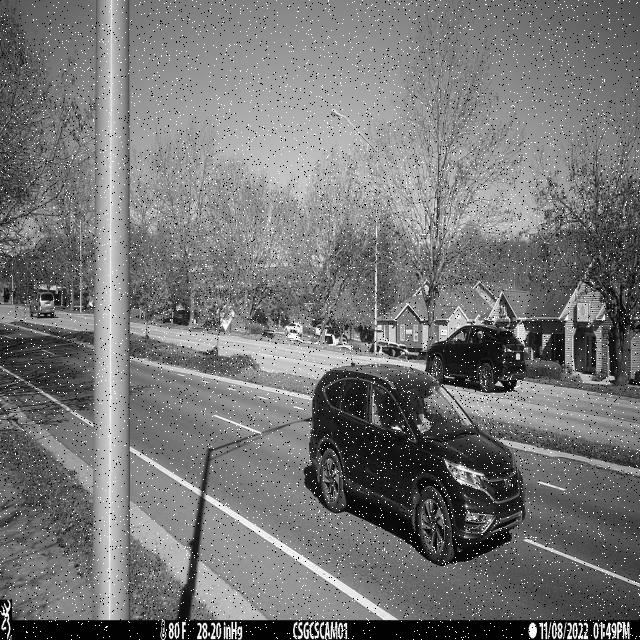SUV: (308, 364, 527, 567)
